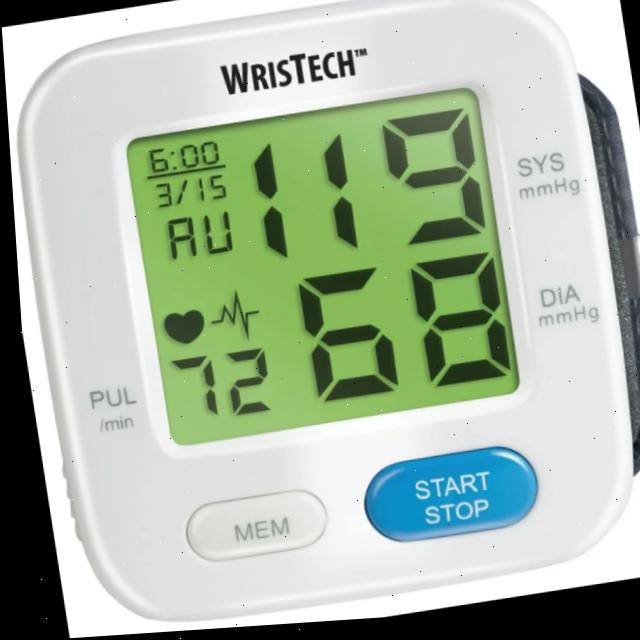dia: (272, 242, 516, 417)
pul: (153, 337, 277, 431)
ssd: (121, 93, 513, 447)
sys: (227, 101, 486, 275)
